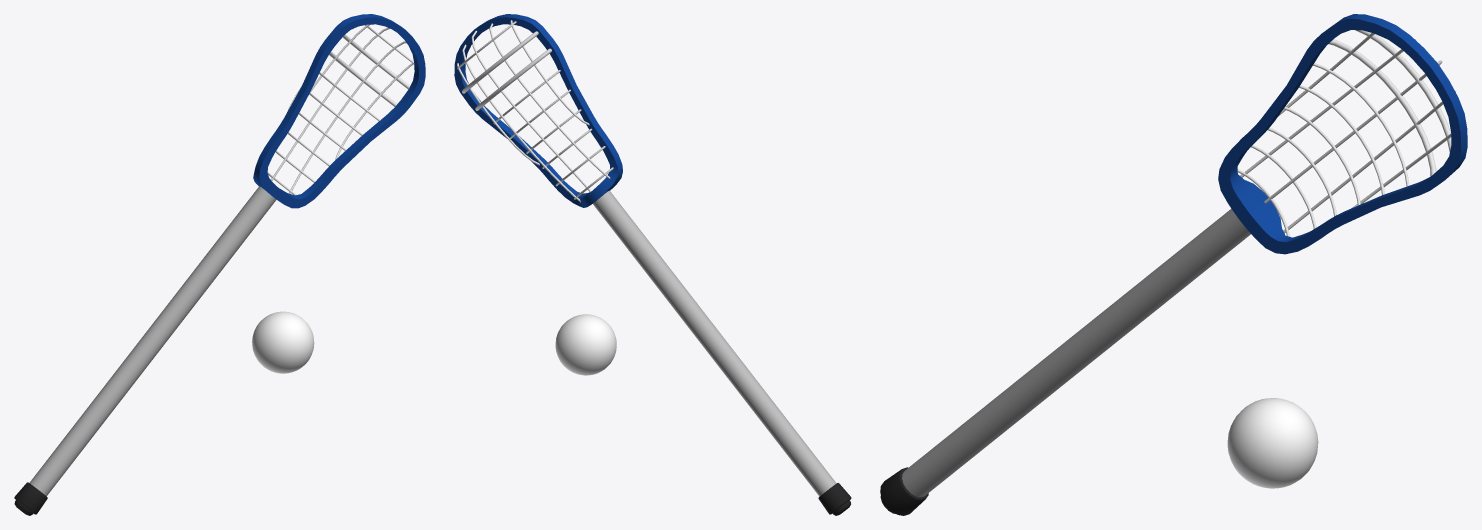
File: lacrosse.glb
3 views of the same model, side by side, from view 1: azimuth 30°, elevation 25°; view 2: azimuth 150°, elevation 25°; view 3: azimuth 330°, elevation 25° (orthographic). The views are drawn at different scales.
Visible parts, largest first — view 1: Cylinder.475, BezierCurve.012, BezierCurve.003; view 2: Cylinder.475, BezierCurve.012, BezierCurve.003; view 3: Cylinder.475, BezierCurve.012, BezierCurve.003.
Boxes of the visible parts, x1,y1,x2,y2 form: Cylinder.475: (14, 14, 425, 515); BezierCurve.012: (267, 24, 414, 195); BezierCurve.003: (329, 34, 409, 106); Cylinder.475: (454, 14, 851, 515); BezierCurve.012: (457, 20, 613, 202); BezierCurve.003: (462, 31, 551, 110); Cylinder.475: (880, 14, 1467, 515); BezierCurve.012: (1237, 33, 1455, 236); BezierCurve.003: (1328, 30, 1451, 175).
Size of the model in its own units: 2.28 by 2.28 by 0.3061.
Materials: 1 (1 with a texture image).
